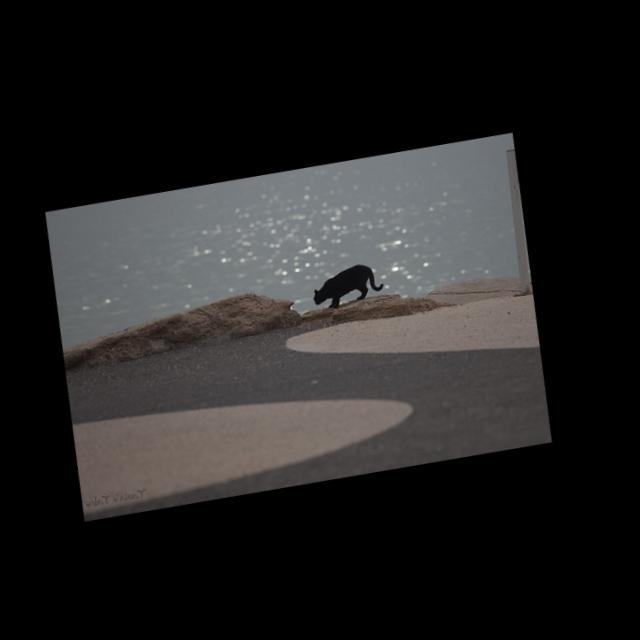animals: (312, 257, 392, 311)
